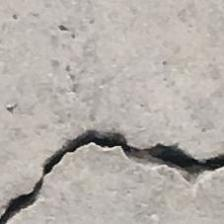Crack: (0, 114, 224, 224)
